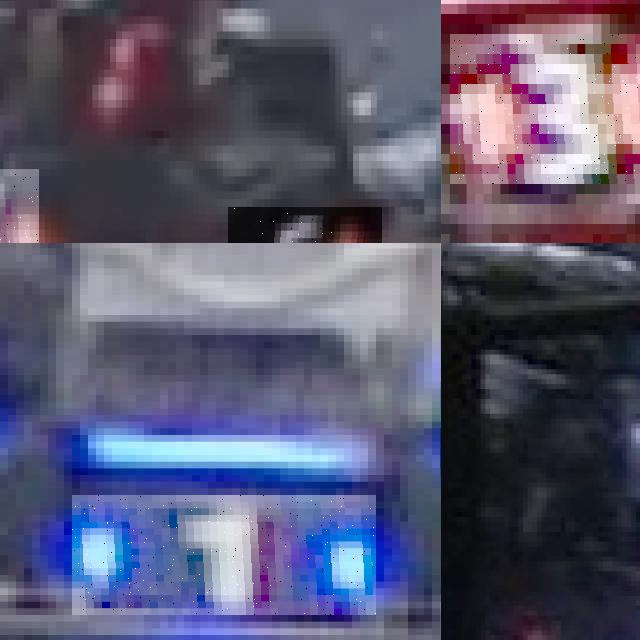B1: (72, 495, 376, 615)
R3: (449, 34, 640, 184)
R5: (228, 206, 382, 243)
